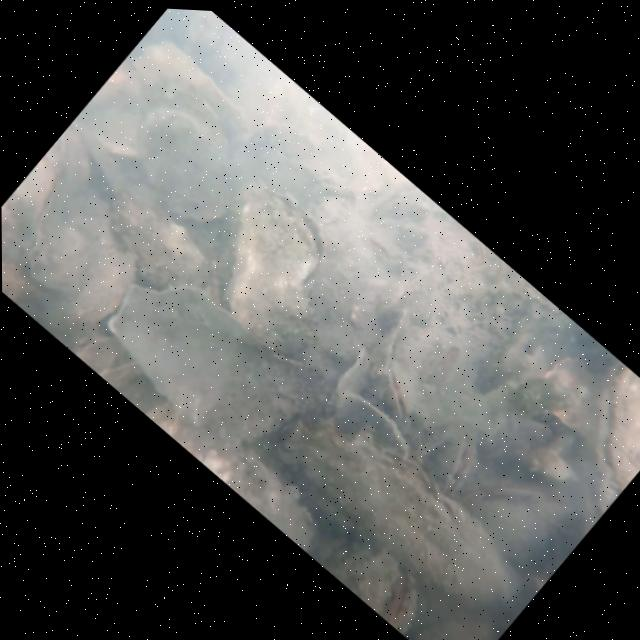Oyster-Closed: (264, 383, 540, 640), (178, 168, 373, 370), (1, 130, 144, 307), (342, 304, 470, 440), (535, 355, 640, 515), (337, 536, 438, 637), (415, 419, 493, 503)
Oyster-Indeterminate: (85, 235, 342, 490), (75, 26, 285, 240), (85, 177, 227, 316), (323, 382, 419, 476)
